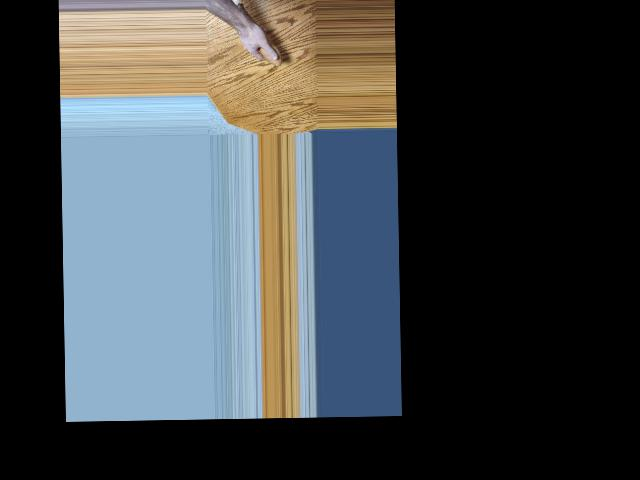sweet_potato: (237, 3, 282, 67)
